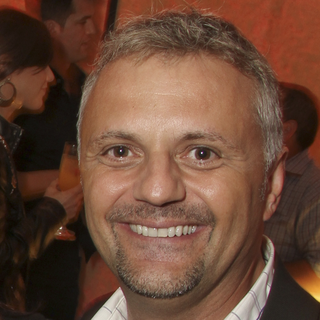eye: (174, 142, 224, 167), (93, 141, 143, 165)
